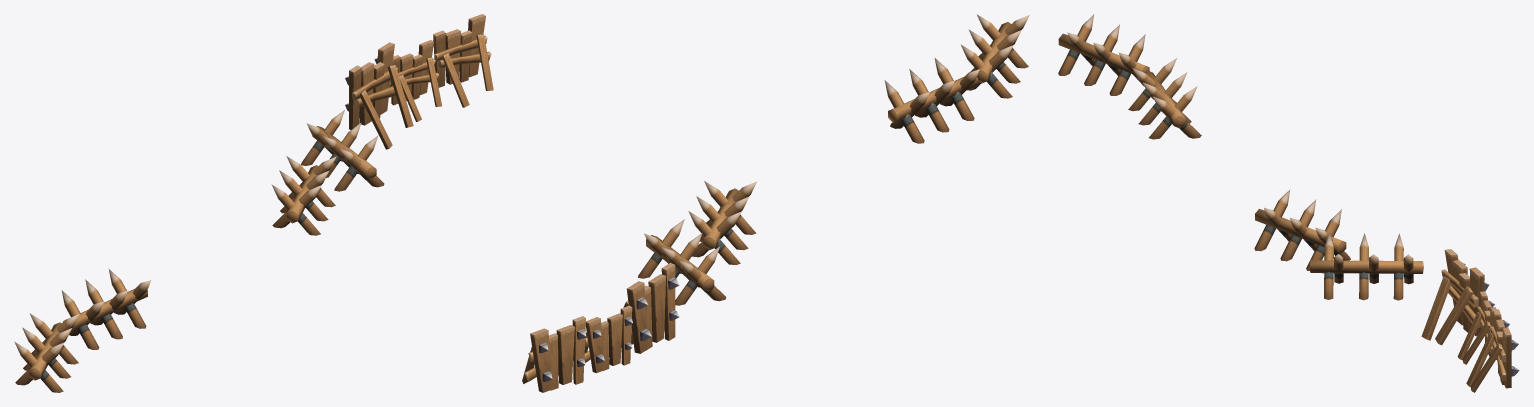
File: area_02_13.fbx
The picture shows the model from 3 angles, left to right: view 1: azimuth 30°, elevation 25°; view 2: azimuth 210°, elevation 25°; view 3: azimuth 270°, elevation 25°; orthographic projection. The views are drawn at different scales.
Visible parts, largest first — view 1: area_02_13; view 2: area_02_13; view 3: area_02_13.
Boxes of the visible parts, box(x1,y1,x2,y2) form: area_02_13: box(14, 14, 493, 392); area_02_13: box(522, 14, 1029, 392); area_02_13: box(1058, 14, 1519, 392).
Size of the model in its own units: 37.11 by 4.07 by 21.56.
